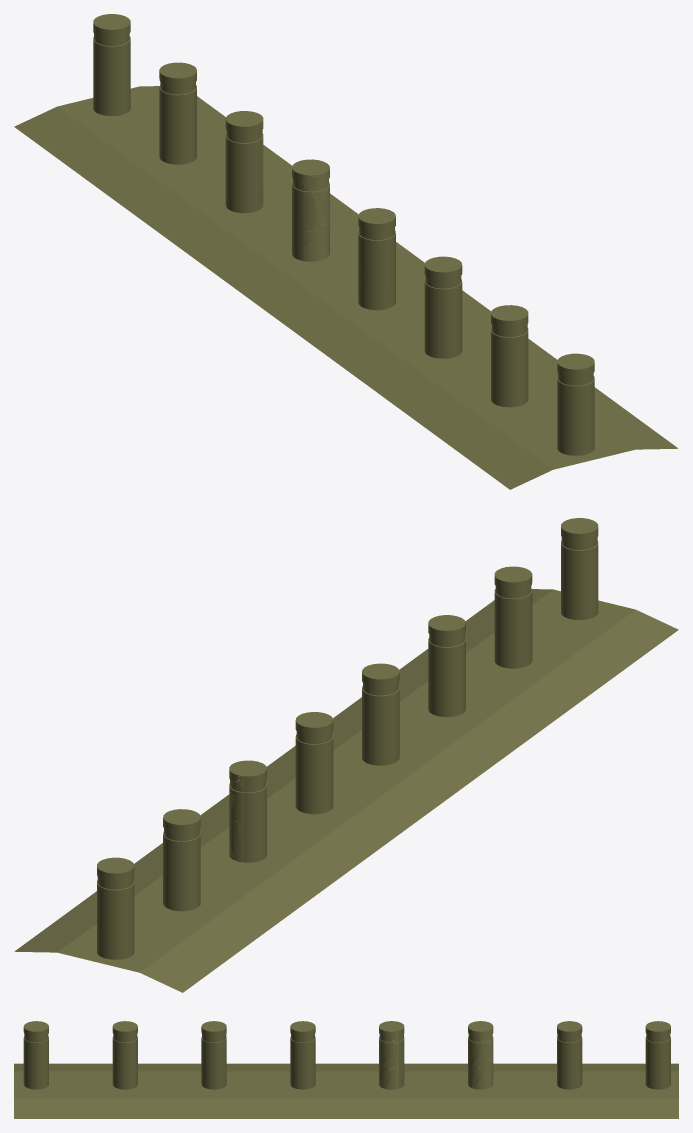
File: AutostopAll.fbx
3 views of the same model, one above another, from view 1: azimuth 30°, elevation 25°; view 2: azimuth 150°, elevation 25°; view 3: azimuth 270°, elevation 25° (orthographic). The views are drawn at different scales.
Parts seen in each view (by area): view 1: Platform, Colons, ColonsDynamic; view 2: Platform, Colons, ColonsDynamic; view 3: Platform, Colons, ColonsDynamic, ColonPart_cell.038, ColonPart_cell.061, ColonPart_cell.055, ColonPart_cell.031.
Part boxes in pixels (bbox=[...]): Platform: bbox=[14, 86, 678, 489]; Colons: bbox=[93, 14, 594, 455]; ColonsDynamic: bbox=[225, 111, 329, 260]; Platform: bbox=[14, 589, 678, 992]; Colons: bbox=[97, 518, 598, 959]; ColonsDynamic: bbox=[229, 712, 333, 862]; Platform: bbox=[14, 1063, 678, 1118]; Colons: bbox=[23, 1021, 670, 1089]; ColonsDynamic: bbox=[379, 1021, 493, 1088]; ColonPart_cell.038: bbox=[470, 1059, 493, 1088]; ColonPart_cell.061: bbox=[379, 1061, 398, 1088]; ColonPart_cell.055: bbox=[379, 1038, 393, 1064]; ColonPart_cell.031: bbox=[470, 1038, 482, 1064].
Bounding box in the file's own units: 0.0735 × 0.04 × 0.3743.
